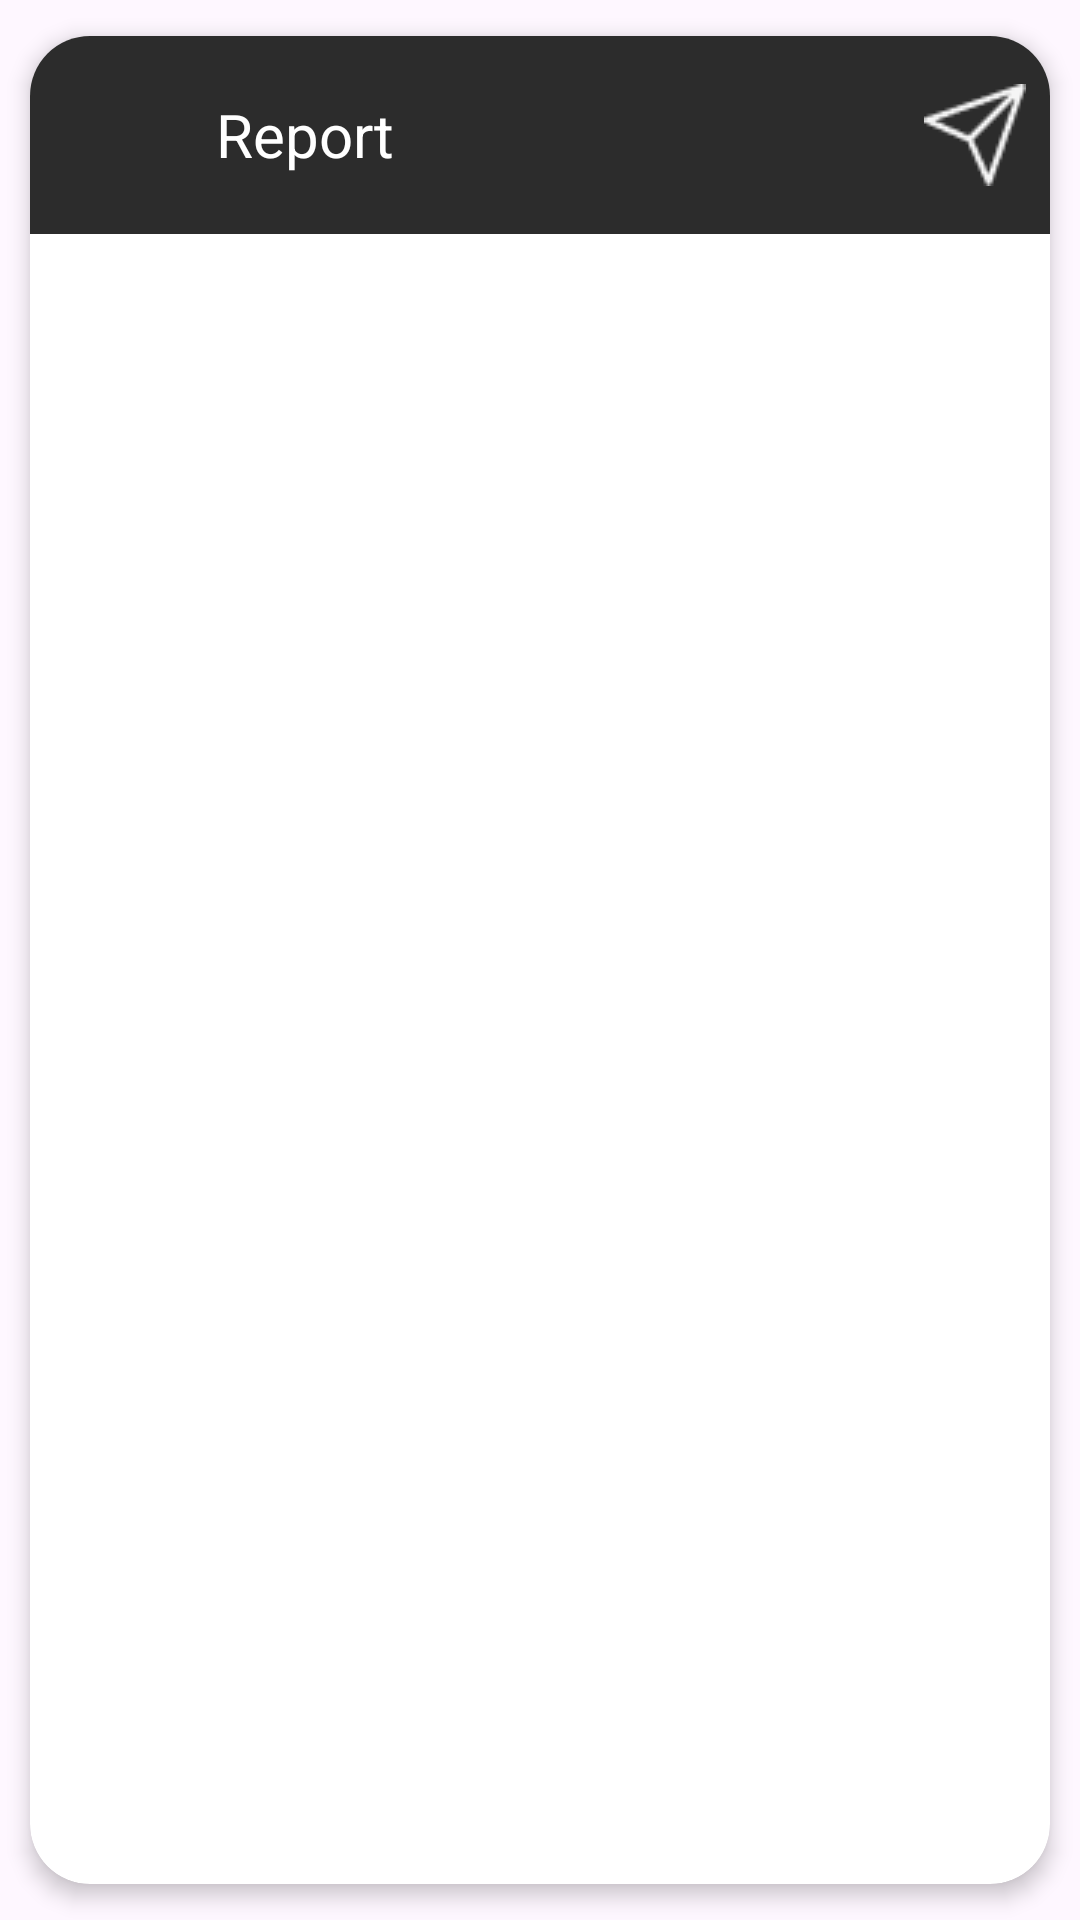

Locate icon controls on the screen. Image size 1080*1920, boxes as (x1, y1, x2, y2).
Send Icon: (924, 84, 1026, 186)
